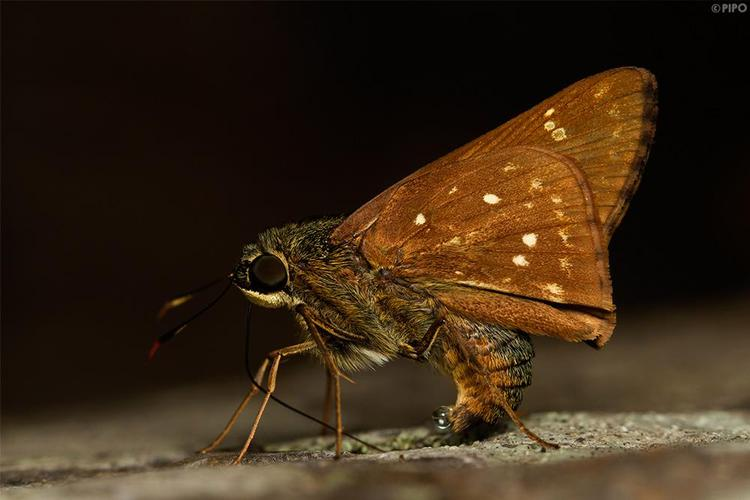Hesperiidae: (141, 59, 667, 470)
